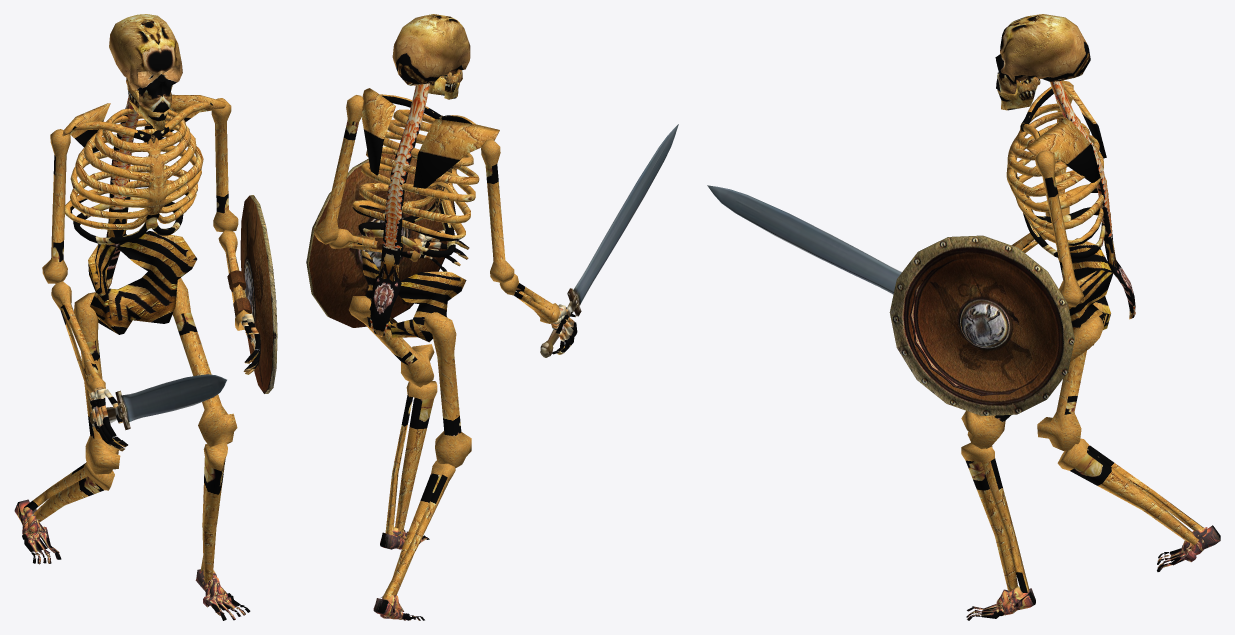
File: Skeleton_000005.obj
3 views of the same model, side by side, from view 1: azimuth 30°, elevation 25°; view 2: azimuth 150°, elevation 25°; view 3: azimuth 270°, elevation 25° (orthographic). The views are drawn at different scales.
Visible parts, largest first — view 1: Costillar, Coxis, Femur, Shield_Shield.001, Skull, Tibia, Humero, Sword, Radio, Feet, Hands, Omoplato (+1 smaller); view 2: Costillar, Shield_Shield.001, Tibia, Femur, Omoplato, Skull, Humero, Coxis, Sword, Radio, Hands, Feet (+1 smaller); view 3: Shield_Shield.001, Costillar, Tibia, Skull, Sword, Femur, Omoplato, Humero, Coxis, Feet, Mandibula.
Boxes of the visible parts, x1,y1,x2,y2 form: Costillar: (65, 96, 212, 288); Coxis: (88, 231, 197, 334); Femur: (74, 278, 237, 474); Shield_Shield.001: (227, 195, 277, 393); Skull: (109, 14, 182, 112); Tibia: (24, 442, 227, 583); Humero: (42, 98, 238, 283); Sword: (89, 374, 226, 430); Radio: (51, 230, 249, 393); Feet: (14, 499, 250, 620); Hands: (89, 313, 260, 451); Omoplato: (62, 94, 226, 152); Costillar: (352, 83, 479, 336); Shield_Shield.001: (306, 153, 455, 327); Tibia: (382, 381, 455, 599); Femur: (348, 296, 471, 468); Omoplato: (362, 88, 499, 188); Skull: (392, 14, 470, 85); Humero: (314, 95, 514, 283); Coxis: (362, 250, 466, 342); Sword: (540, 124, 678, 357); Radio: (329, 228, 559, 323); Hands: (417, 229, 577, 354); Feet: (373, 527, 429, 620); Shield_Shield.001: (889, 235, 1074, 415); Costillar: (1006, 81, 1135, 319); Tibia: (961, 438, 1204, 592); Skull: (995, 14, 1090, 93); Sword: (707, 185, 901, 294); Femur: (961, 315, 1103, 450); Omoplato: (1026, 80, 1106, 182); Humero: (1034, 81, 1083, 307); Coxis: (1057, 238, 1113, 345); Feet: (966, 525, 1220, 620); Mandibula: (997, 76, 1040, 110).
Size of the model in its own units: 3.15 by 8.35 by 6.75.
5 materials, 5 textured.
